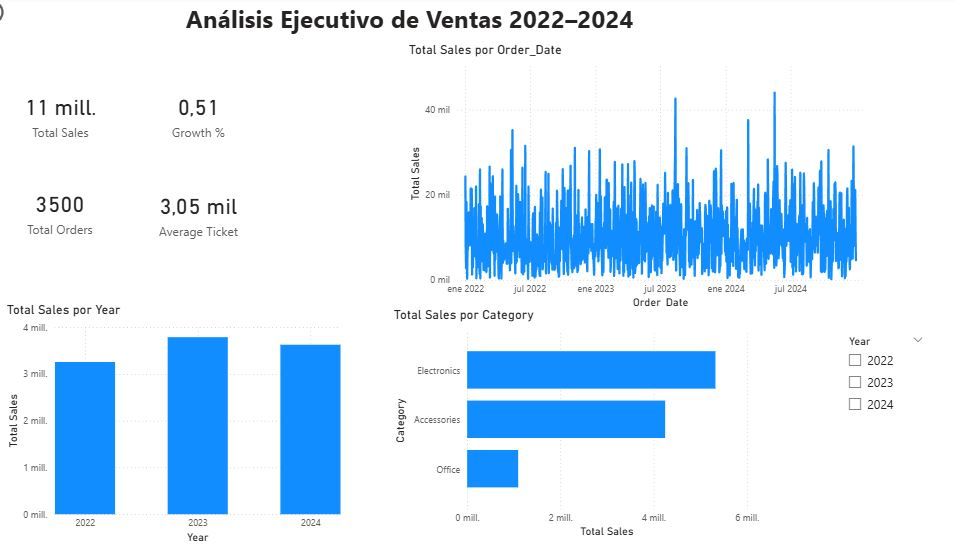

Layout of this report page (visuals, bound fields, positions):
{"tool":"powerbi","page":{"name":"Página 1","canvas":[1280,720],"ordinal":0},"visuals":[{"type":"card","fields":{"Values":["ecommerce.Total Sales"]},"box":[8.6,86.4,200.2,133.9],"z":0},{"type":"card","fields":{"Values":["ecommerce.Total Orders"]},"box":[1.4,214.6,214.6,131],"z":1000},{"type":"card","fields":{"Values":["ecommerce.Average Ticket"]},"box":[210.2,220.3,158.4,125.3],"z":2000},{"type":"card","fields":{"Values":["ecommerce.Growth %"]},"box":[195.8,86.4,187.2,133.9],"z":3000},{"type":"lineChart","fields":{"Category":["ecommerce.Order_Date.Variación.Jerarquía de fechas.Mes"],"Y":["ecommerce.Total Sales"]},"box":[560.2,59,616.3,354.2],"z":4000},{"type":"columnChart","fields":{"Category":["ecommerce.Year"],"Y":["ecommerce.Total Sales"]},"box":[33.6,399.8,446.8,320.8],"z":5000},{"type":"barChart","fields":{"Category":["ecommerce.Category"],"Y":["ecommerce.Total Sales"]},"box":[540,406.1,488.2,306.7],"z":6000},{"type":"textbox","box":[267.8,0,616.3,59],"z":7000},{"type":"slicer","fields":{"Values":["ecommerce.Year"]},"box":[1129,437.8,122.4,158.4],"z":8000},{"type":"actionButton","box":[0,0,100,40],"z":9000}]}

Visuals, with their boxes in screenshot pixels (x1, y1, x2, y2), scaled from the page's 1280x720 canvas onto the 955x547 screenshot:
card - ecommerce.Total Sales: rect(6, 66, 156, 167)
card - ecommerce.Total Orders: rect(1, 163, 161, 263)
card - ecommerce.Average Ticket: rect(157, 167, 275, 263)
card - ecommerce.Growth %: rect(146, 66, 286, 167)
lineChart - ecommerce.Order_Date.Variación.Jerarquía de fechas.Mes x ecommerce.Total Sales: rect(418, 45, 878, 314)
columnChart - ecommerce.Year x ecommerce.Total Sales: rect(25, 304, 358, 546)
barChart - ecommerce.Category x ecommerce.Total Sales: rect(403, 309, 767, 542)
textbox: rect(200, 0, 660, 45)
slicer - ecommerce.Year: rect(842, 333, 934, 453)
actionButton: rect(0, 0, 75, 30)
